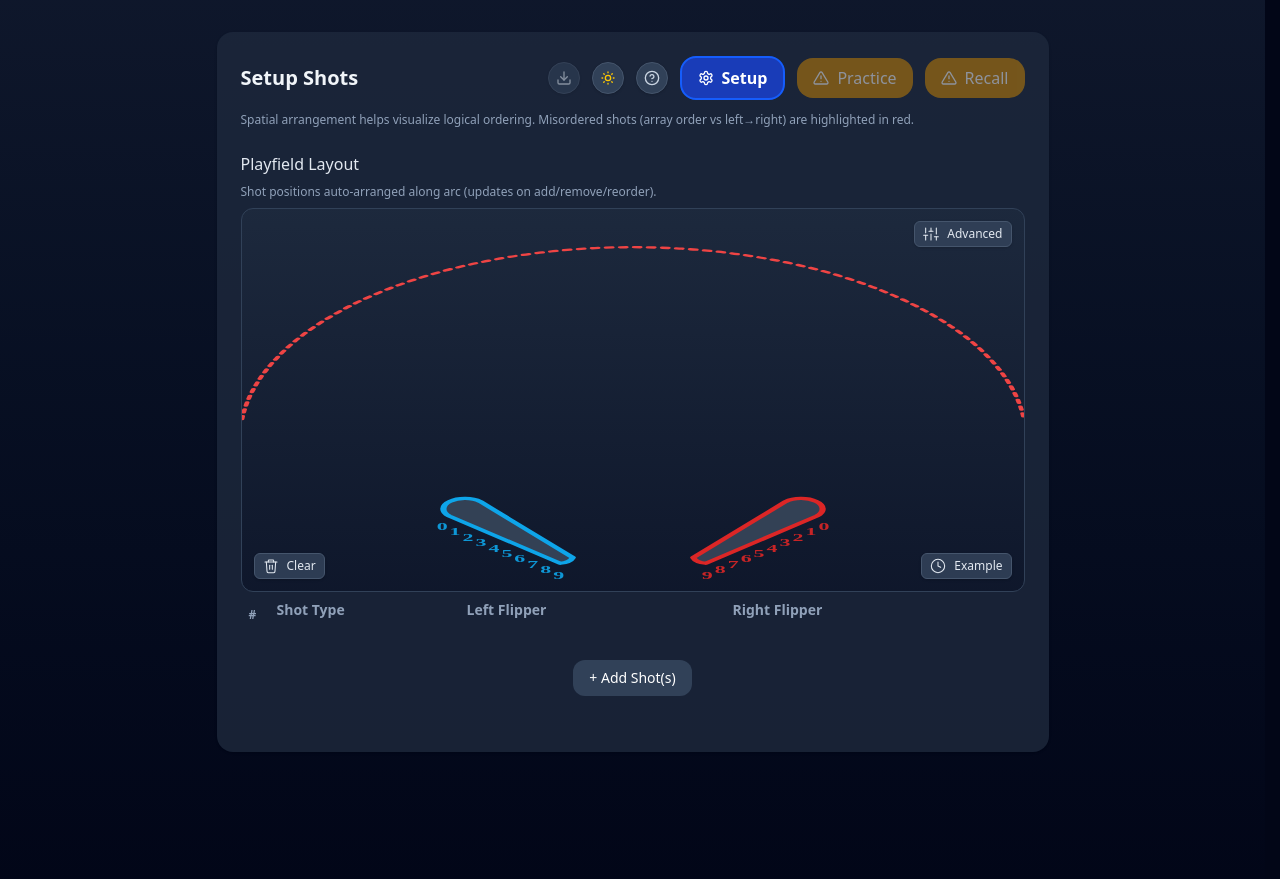
Test: App - Recall Mode Tests › should navigate back to setup from recall mode
Check: the heading "Setup Shots" is shown, box [240,64,358,92]
Click the button with aria-label "load example shots": (966,566) [921,553,1012,579]
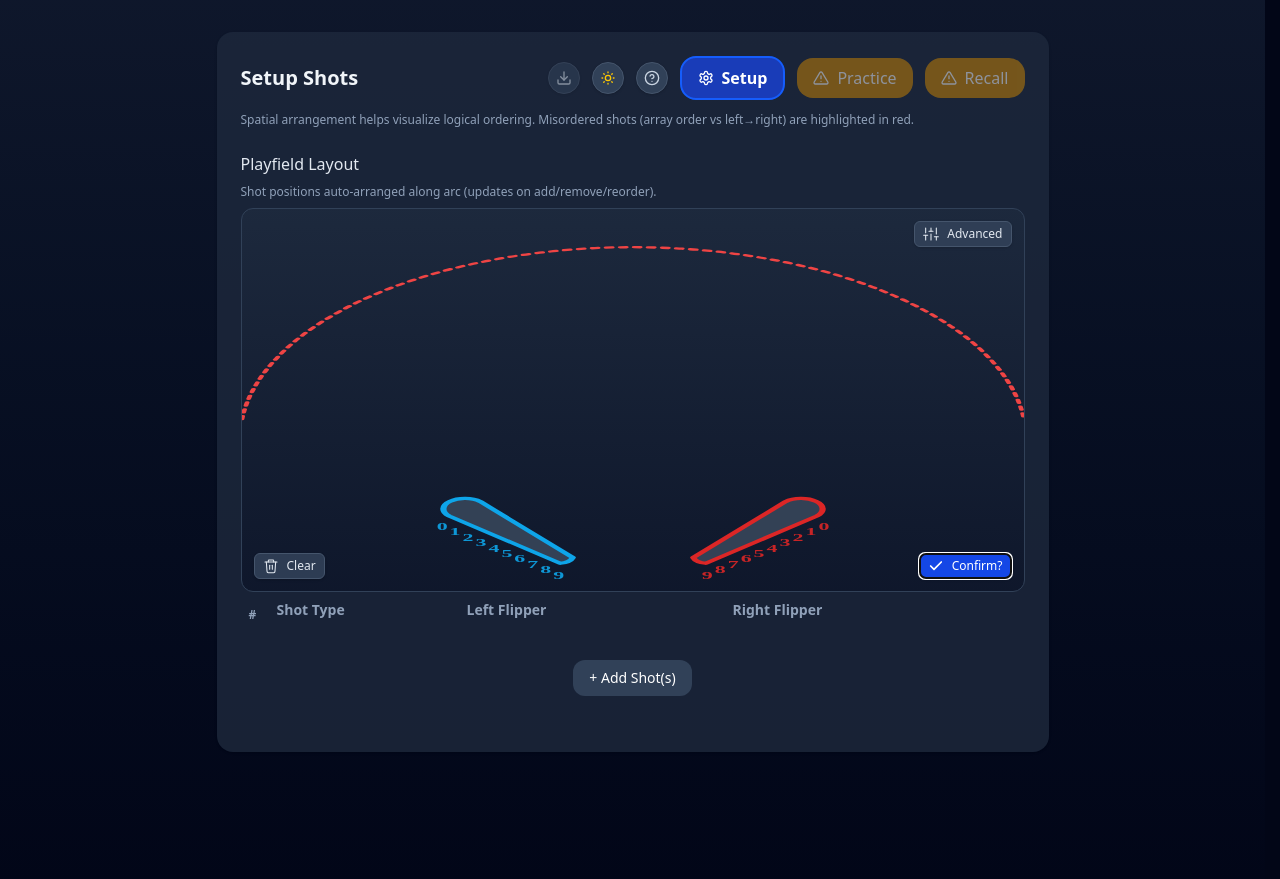
Click the button with aria-label "confirm load example shots": (965,566) [919,553,1012,579]
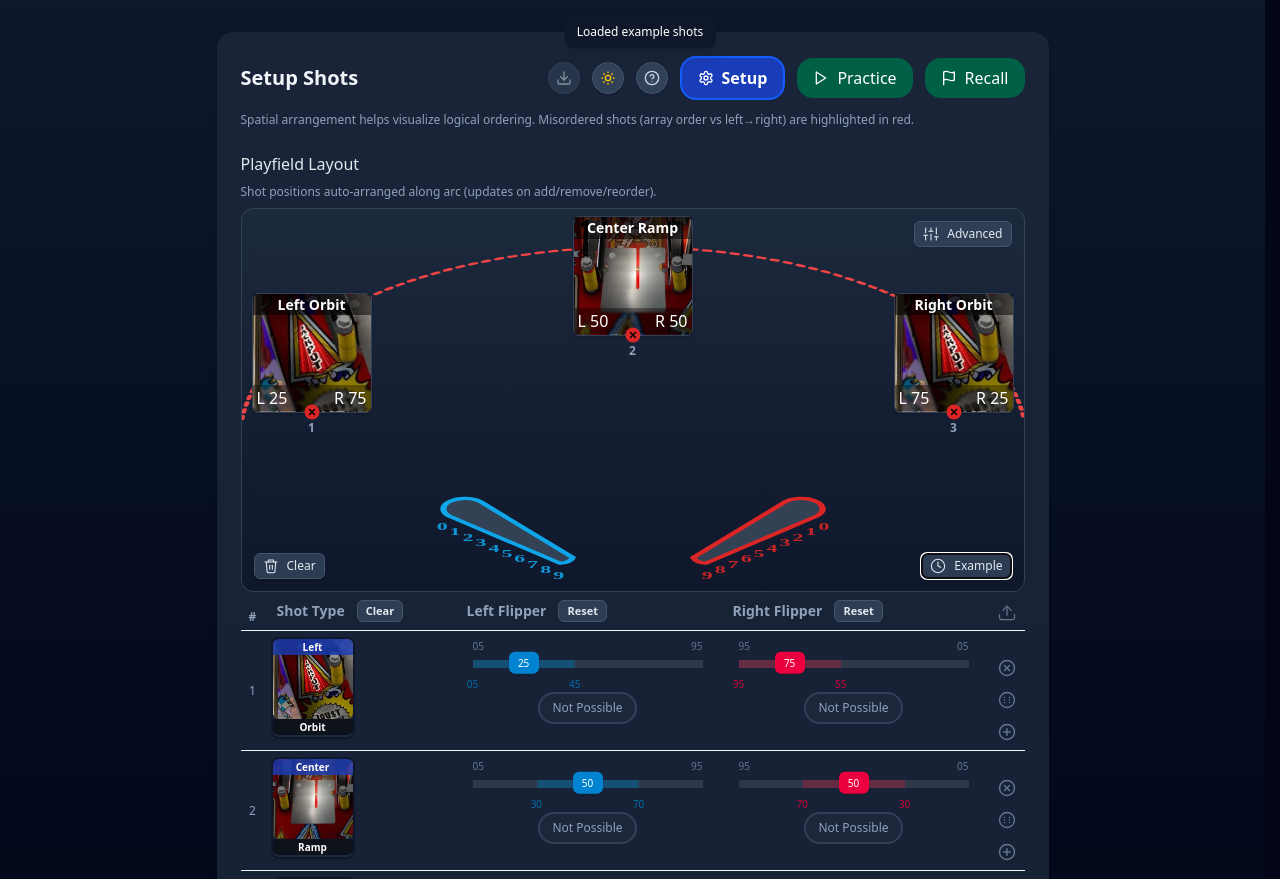
Click the button "Recall": (975,78) [925,58,1024,98]
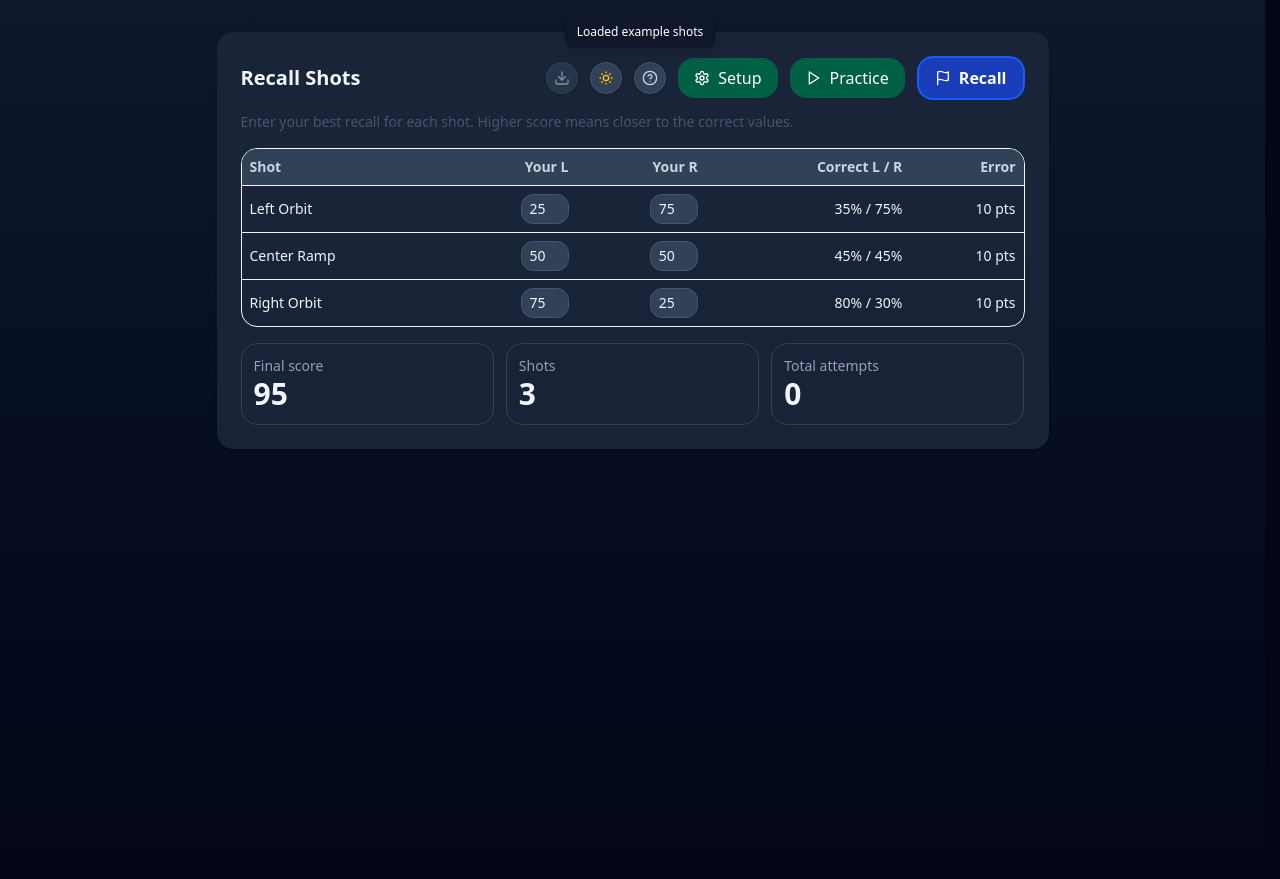
Check: the heading "Setup Shots" is gone
Click the button "Setup": (728,78) [678,58,778,98]
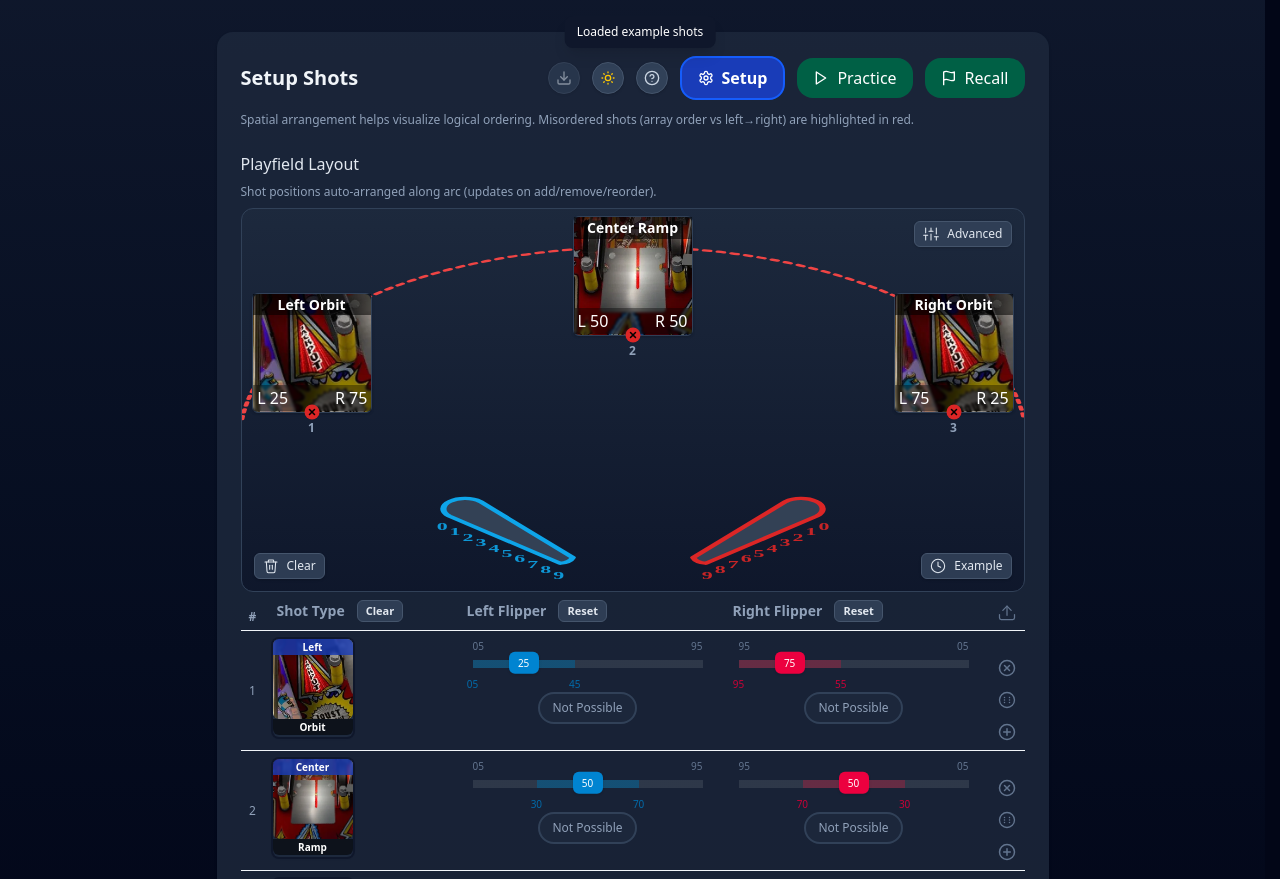
Check: the heading "Setup Shots" is shown, box [240,64,358,92]
